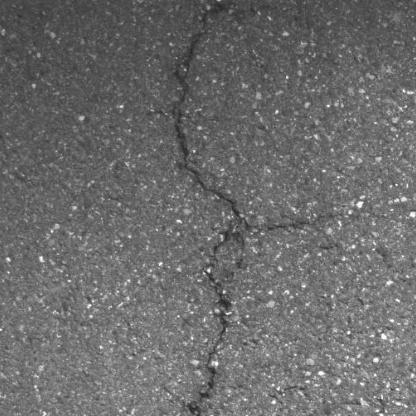Cracks: (170, 0, 315, 416)
